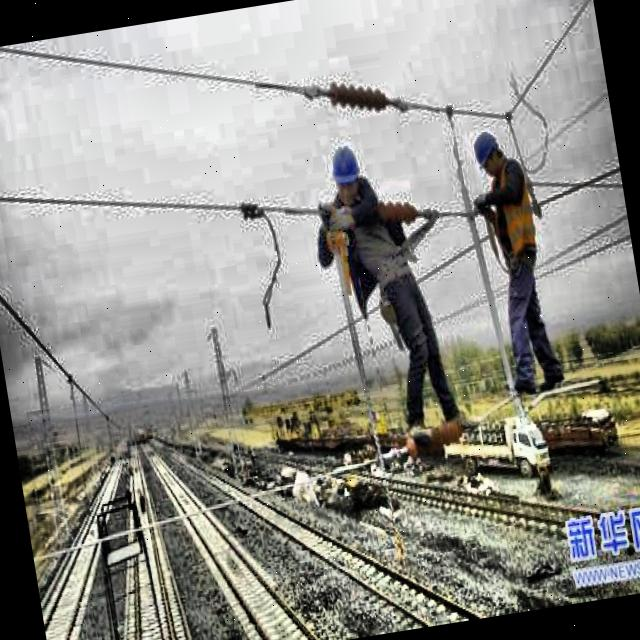helmet: (466, 118, 514, 186), (327, 136, 372, 208)
